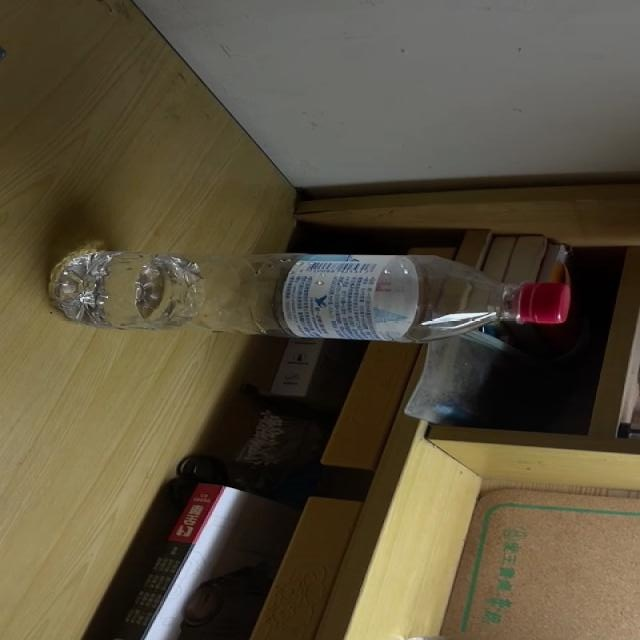Water: (55, 253, 573, 339)
